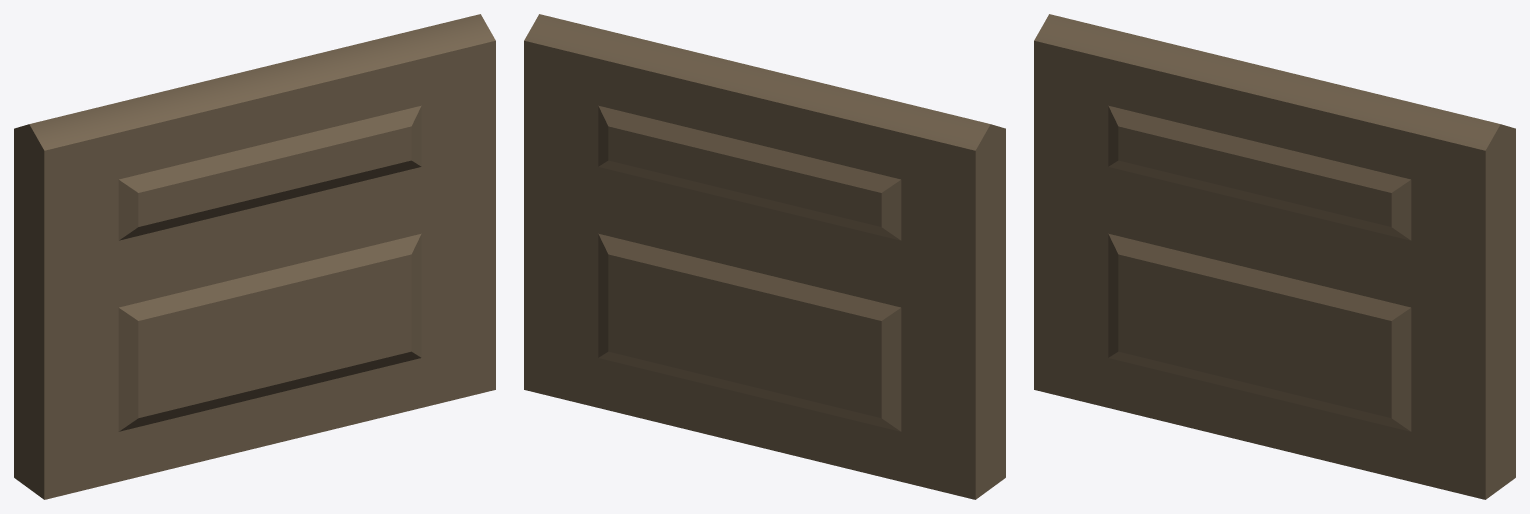
File: Itr_Bed_Single_back_03.FBX
The picture shows the model from 3 angles, left to right: view 1: azimuth 30°, elevation 25°; view 2: azimuth 150°, elevation 25°; view 3: azimuth 330°, elevation 25°; orthographic projection.
Parts seen in each view (by area): view 1: Itr_Bed_Single_back_03; view 2: Itr_Bed_Single_back_03; view 3: Itr_Bed_Single_back_03.
Part boxes in pixels (x1,y1,x2,y2): Itr_Bed_Single_back_03: (14,14,495,499); Itr_Bed_Single_back_03: (524,14,1005,499); Itr_Bed_Single_back_03: (1034,14,1515,499).
Size of the model in its own units: 48.44 by 37.4 by 7.45.
